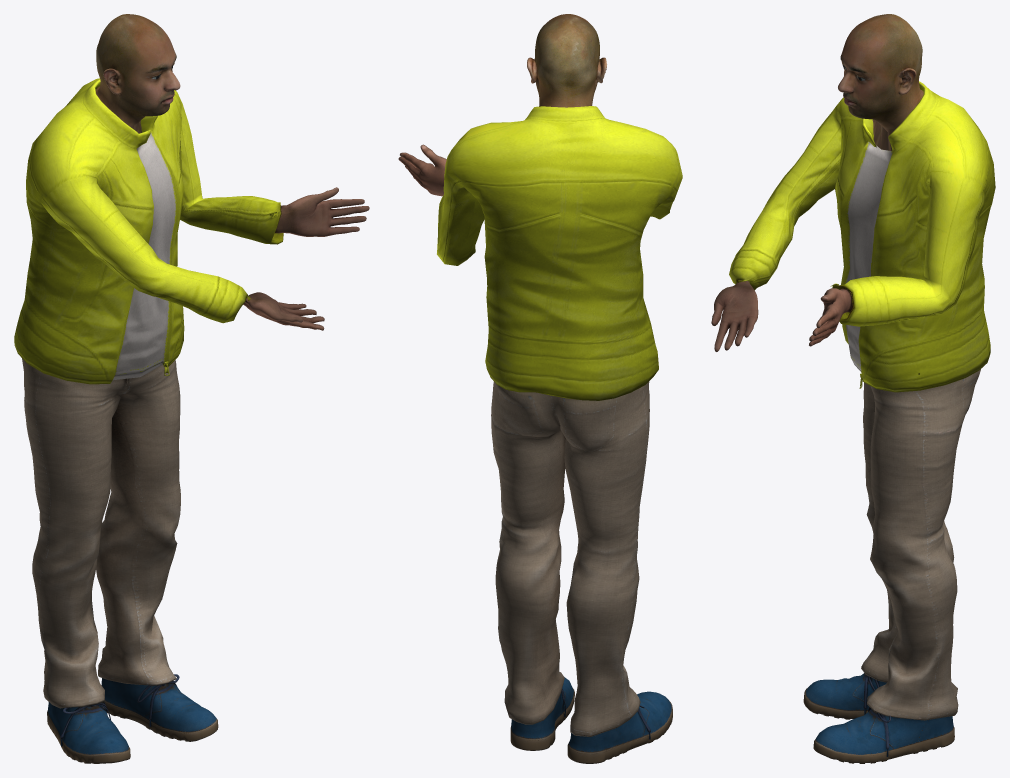
Rendered from digital.obj.
The picture shows the model from 3 angles, left to right: view 1: azimuth 30°, elevation 25°; view 2: azimuth 150°, elevation 25°; view 3: azimuth 270°, elevation 25°; orthographic projection.
Visible parts, largest first — view 1: full_body_full_bodymesh; view 2: full_body_full_bodymesh; view 3: full_body_full_bodymesh.
Boxes of the visible parts, x1=… form: full_body_full_bodymesh: x1=14, y1=14, x2=369, y2=763; full_body_full_bodymesh: x1=398, y1=14, x2=682, y2=763; full_body_full_bodymesh: x1=711, y1=14, x2=995, y2=763.
Bounding box in the file's own units: 0.7917 × 1.78 × 0.6377.
Materials: 2 (2 with a texture image).
